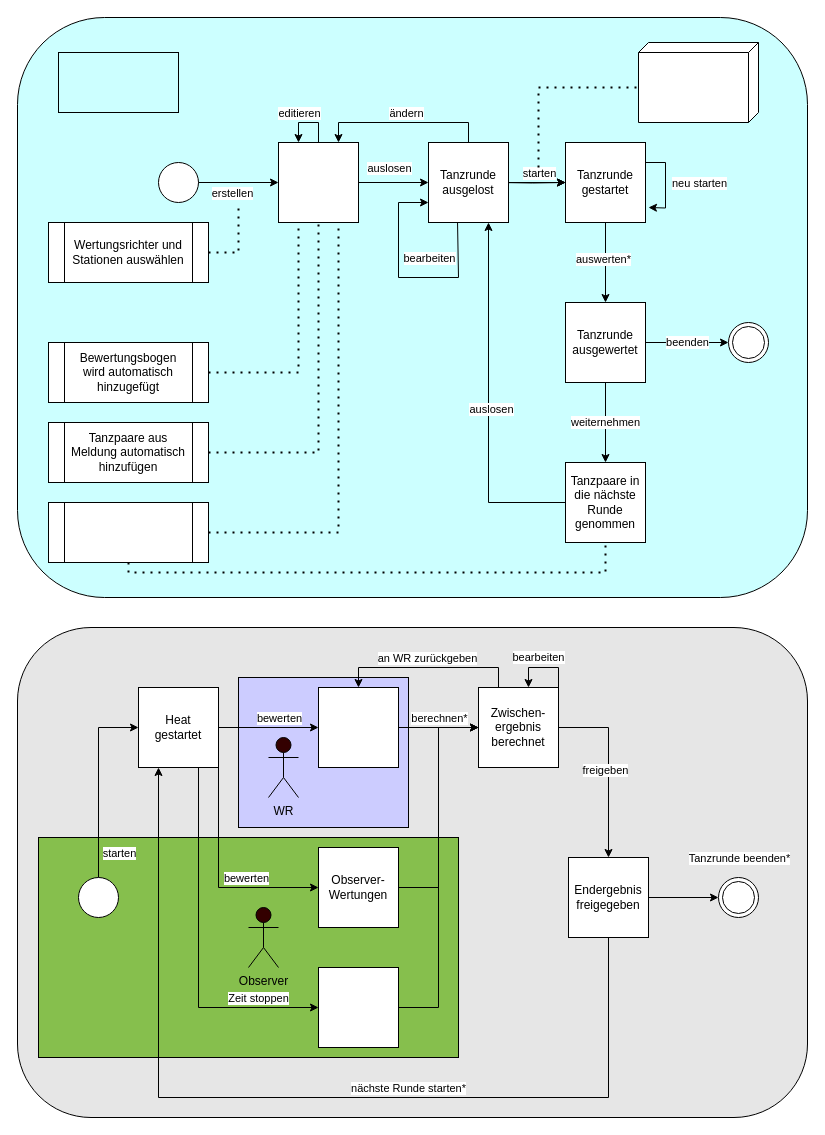
The diagram is 825 pixels wide and 1135 high, and some of its shapes have lost their labels. The box of each missing label's shape, as (x1, y1, x2, y2) in pixels:
Rundenauslosung durchführen: (48, 502, 208, 562)
Tanzrunde erstellt: (278, 142, 358, 222)
Wertungen abgegeben / korrigieren: (318, 686, 398, 768)
Workflow Runde (heat): (638, 42, 758, 122)
Workflow Tanzrunde (round): (58, 52, 178, 112)
Zeit gemessen: (318, 966, 398, 1048)
